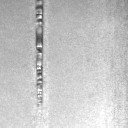slag inclusion: (34, 0, 44, 107)
